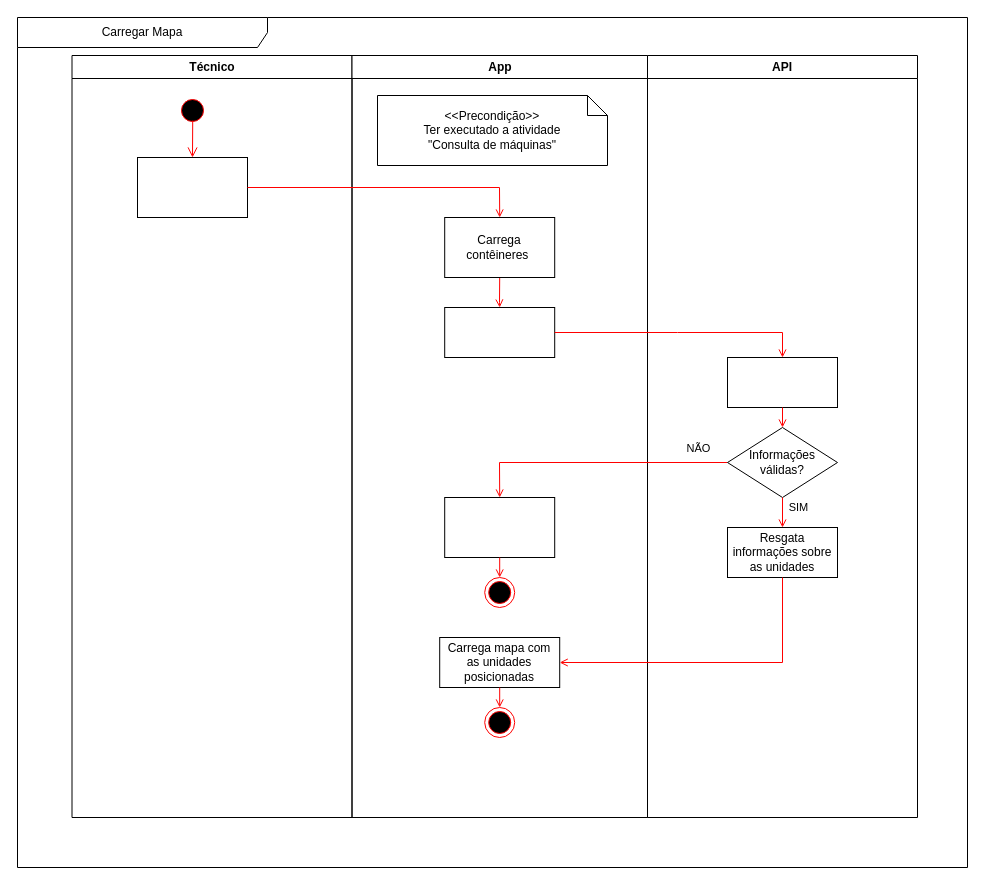
The diagram is 985 pixels wide and 885 high, and some of its shapes have lost their labels. Each missing label, with the box of its shape:
Coleta credenciais do dispositivo: (444, 306, 555, 358)
Exibe mensagem requisitando contato com administração: (444, 496, 555, 558)
Inicia o aplicativo: (136, 156, 248, 218)
Valida informações no portal de chamados: (726, 356, 838, 408)
